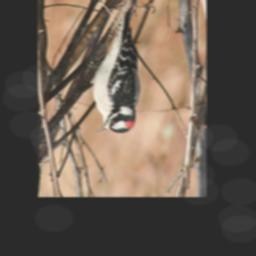Woodpecker: (89, 6, 140, 133)
